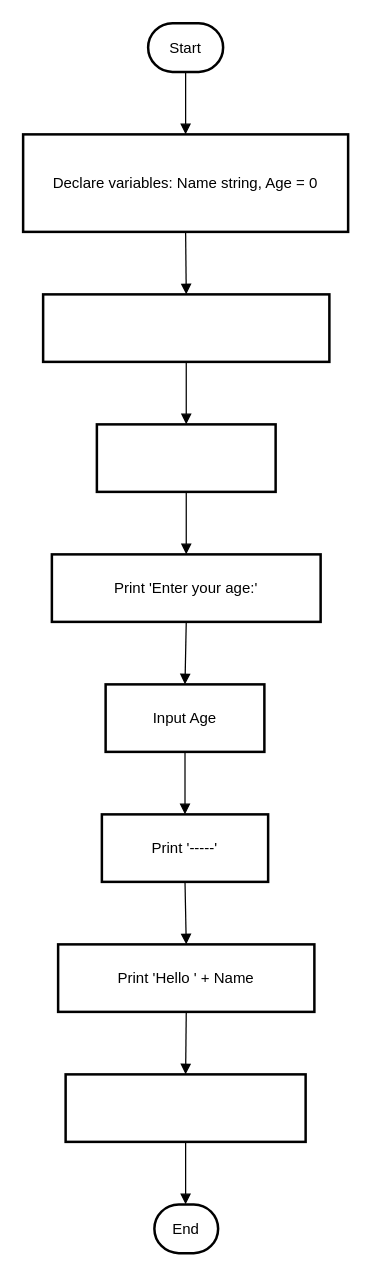
Some shapes in this 370 by 1275 pixel diagram are drawn without their labels. Here are the shapes that lost their labels. From the top down, the centre of each, then its label:
At [185,327]: "Print 'Enter your name:'".
At [185,457]: "Input Name".
At [185,1107]: "Print 'Age = ' + Age".
